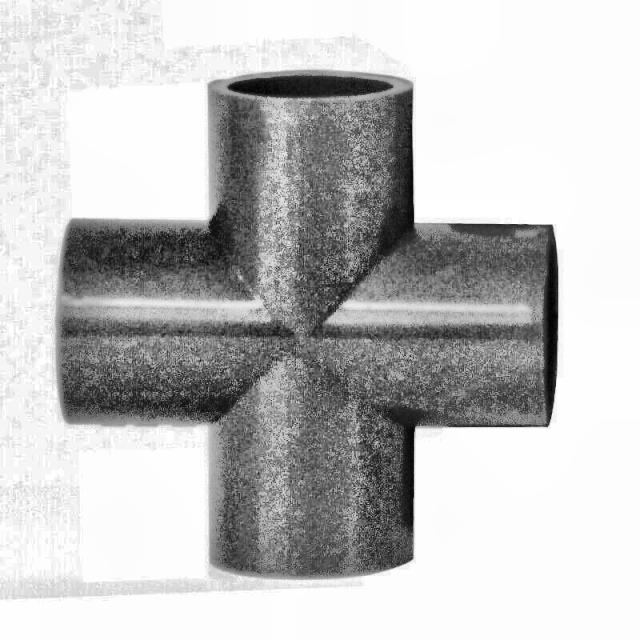EQUALCROSS: (56, 70, 557, 581)
